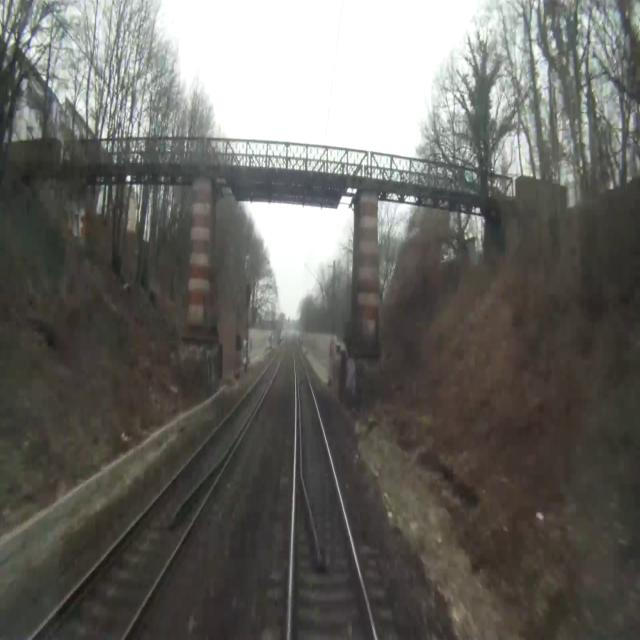rail-track: (35, 351, 282, 639), (291, 348, 373, 639)
